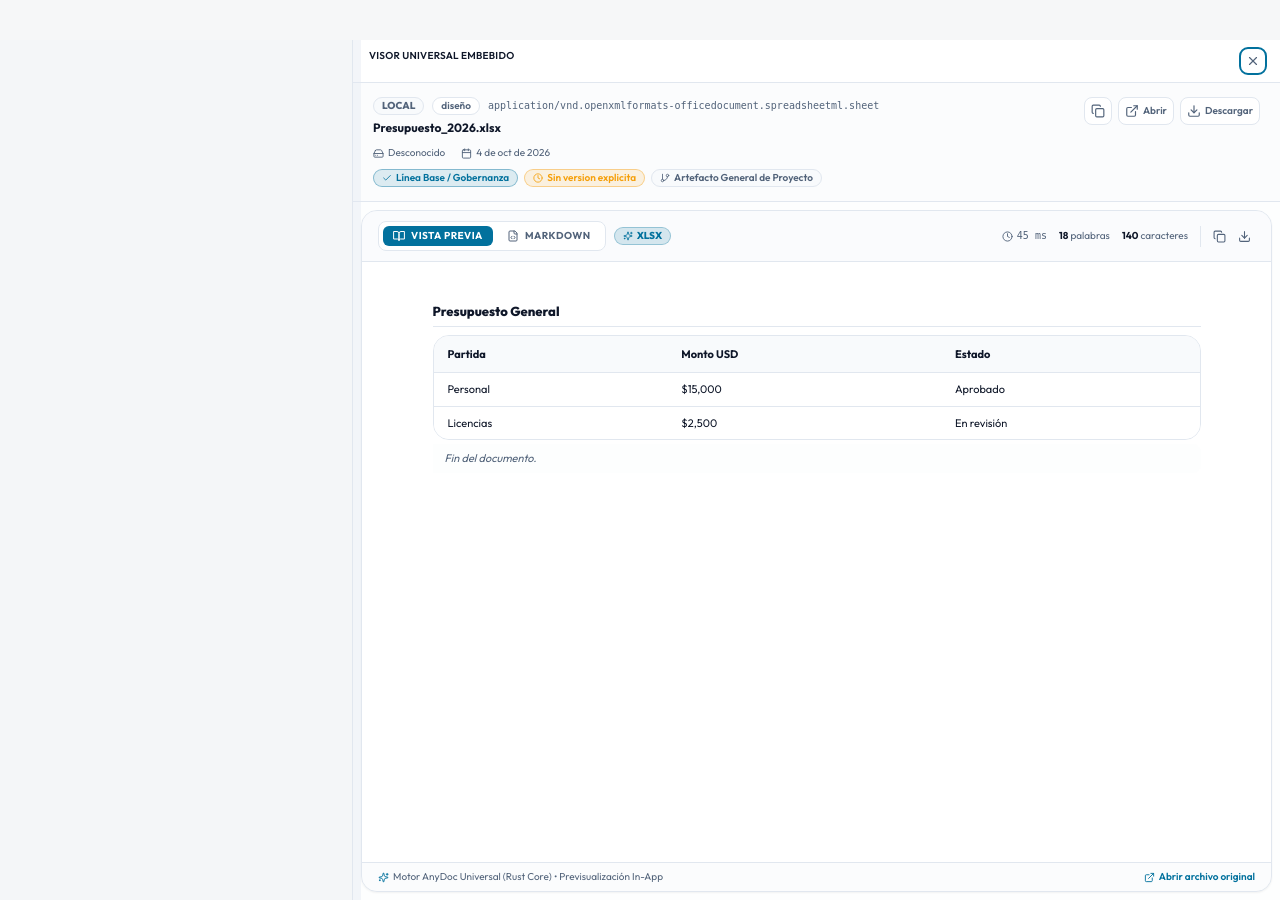
Scenario: ProjectFileViewerDrawer › converts and displays Office document (Excel) with GFM table, badges, stats, and tabs
Expected: the heading "Presupuesto General" is shown, [432,302,1200,326]
Expected: the column heading "Partida" is shown, [434,336,667,372]
Click the tab "Markdown".
click(549, 236)  # box [497,226,601,246]
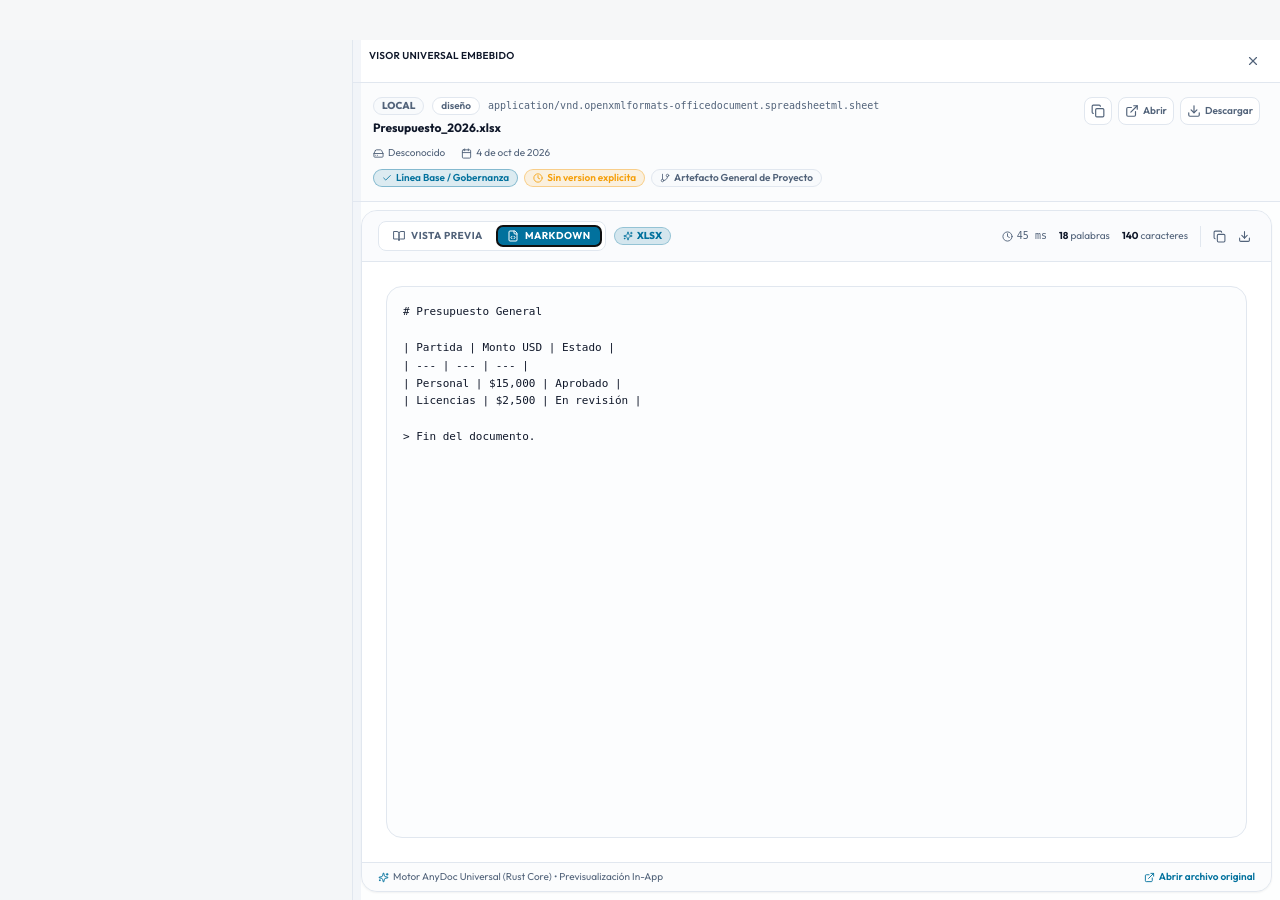
Result: the text box "| Partida | Monto USD |" is shown at [386,286,1247,838]
